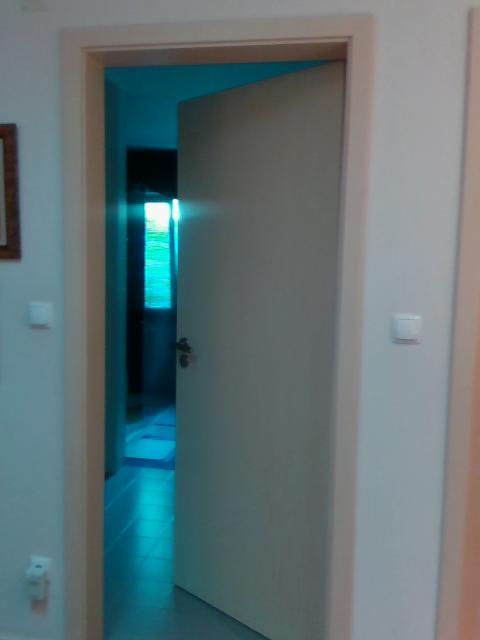semi_door: (61, 7, 376, 639)
